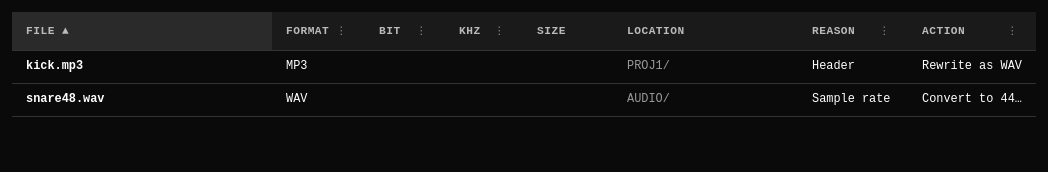
Scenario: PoolFilesTable - row context menu › with showGoToProject: offers "Go to project" only for project-local rows, not pool-root rows
Right-click the text "snare48.wav": (524, 100) x1=12 y1=83 x2=1036 y2=116
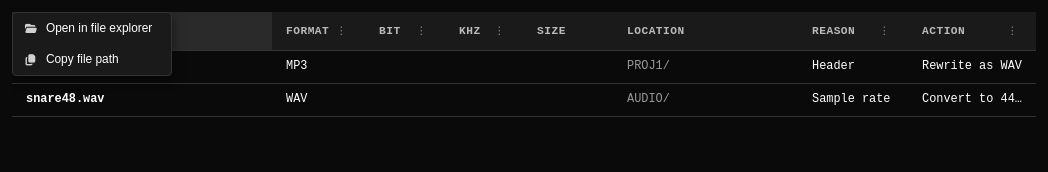
Expected: the text "Go to project" is not shown
Right-click the text "kick.mp3": (524, 67) x1=12 y1=50 x2=1036 y2=83
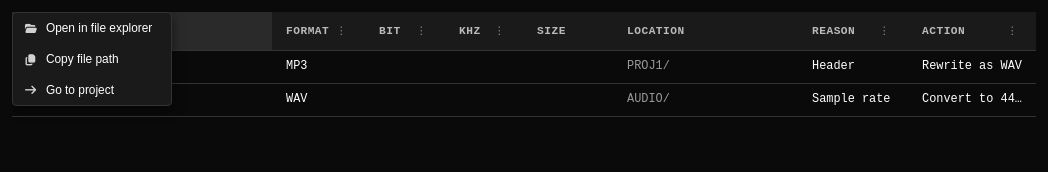
Expected: the button "Go to project" is shown, x1=13 y1=75 x2=171 y2=105
